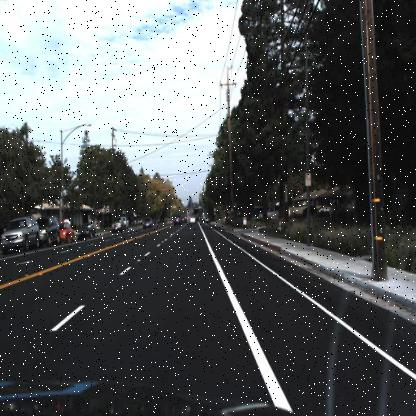car: (0, 214, 40, 252), (35, 213, 60, 249), (34, 214, 59, 247), (55, 217, 74, 245), (75, 223, 96, 240), (110, 216, 122, 232), (142, 217, 153, 231)
